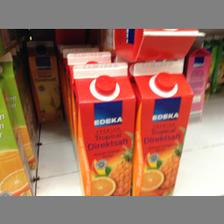Saft: (128, 58, 192, 194), (69, 61, 134, 194), (26, 39, 62, 123)
